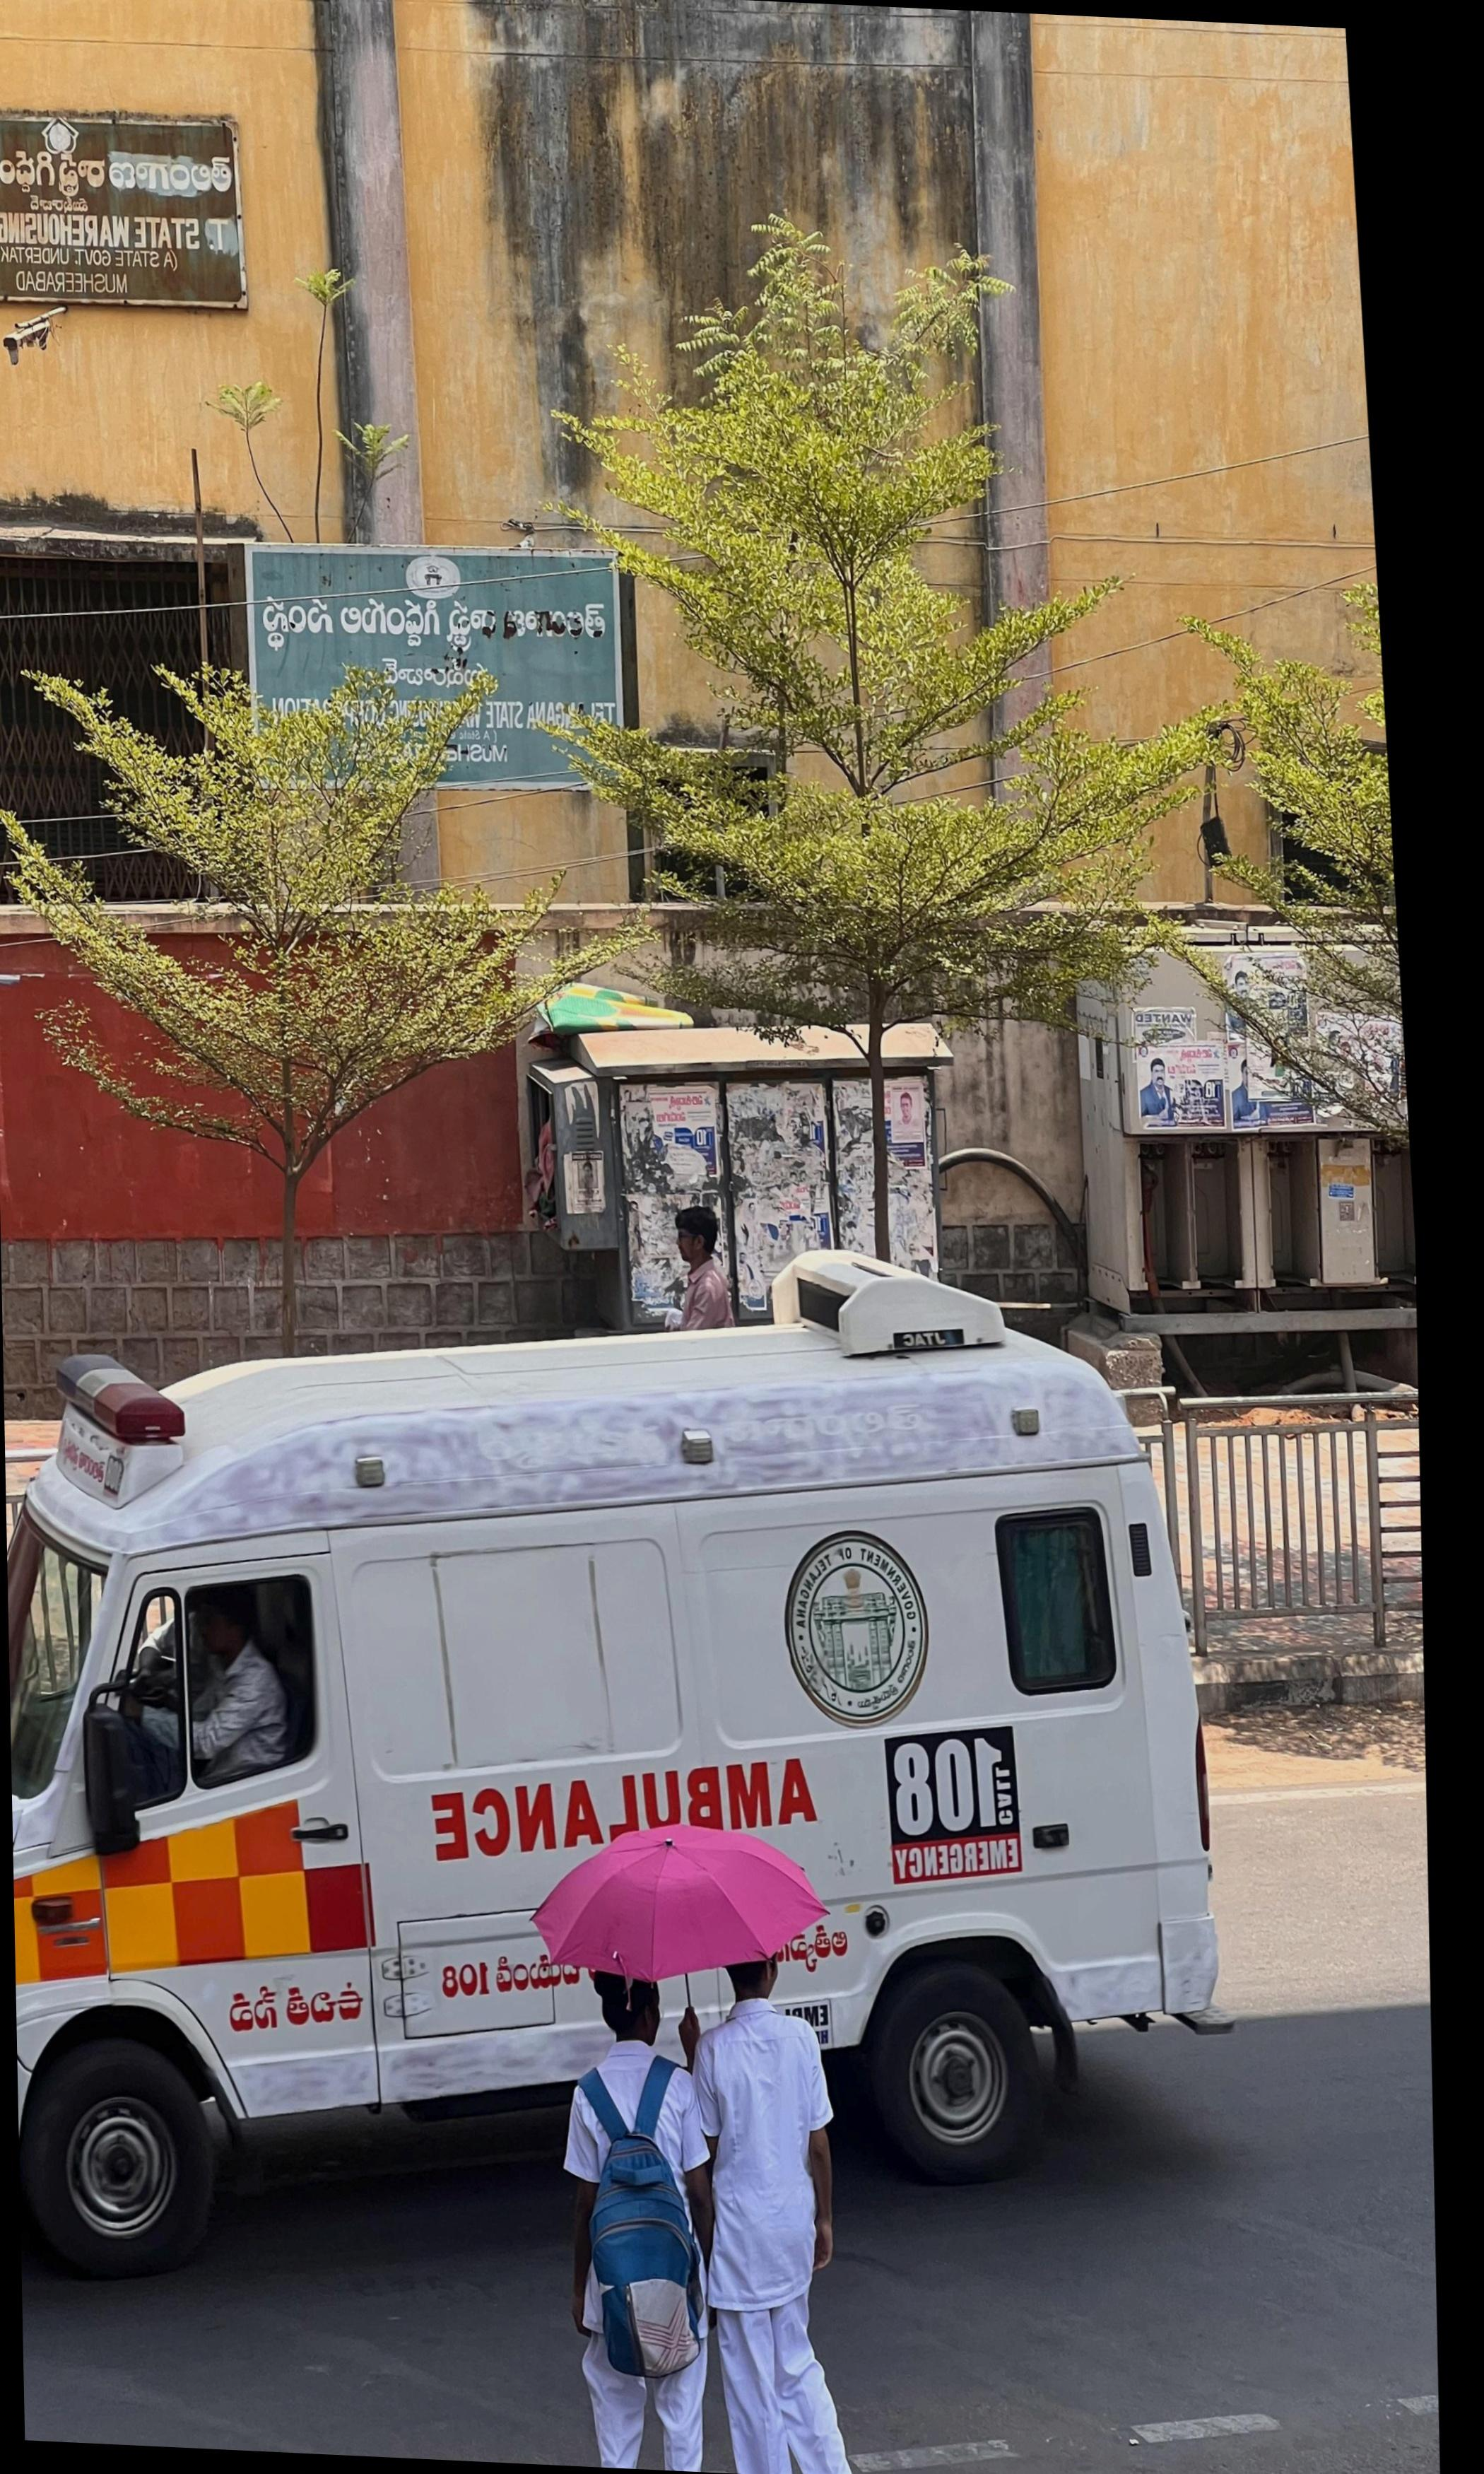ambulance: (11, 1253, 1223, 2290)
